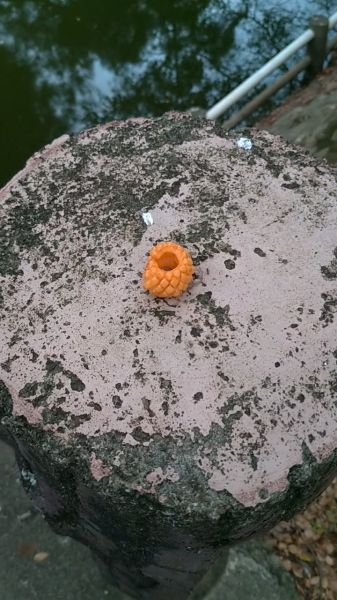eggs: (138, 236, 198, 304)
